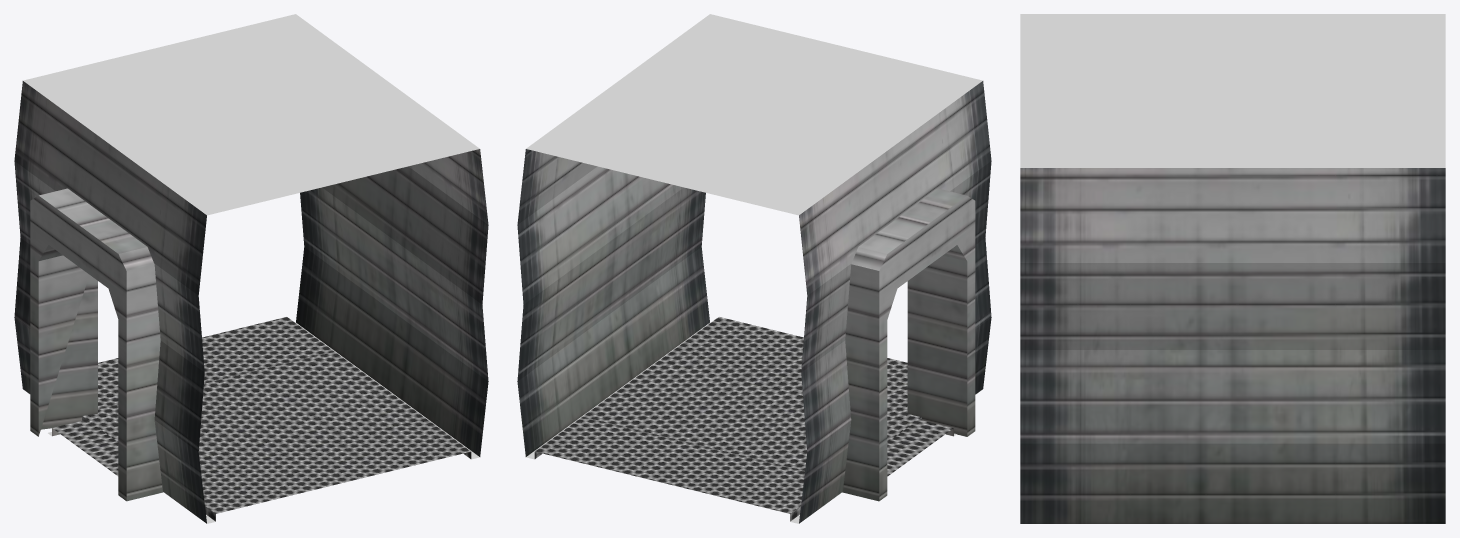
Rendered from 3_Way_Hallway.fbx.
The picture shows the model from 3 angles, left to right: view 1: azimuth 30°, elevation 25°; view 2: azimuth 150°, elevation 25°; view 3: azimuth 270°, elevation 25°; orthographic projection. The views are drawn at different scales.
Visible parts, largest first — view 1: 3-way Large Hallway; view 2: 3-way Large Hallway; view 3: 3-way Large Hallway.
Part boxes in pixels (x1=…): 3-way Large Hallway: x1=14, y1=14, x2=488, y2=523; 3-way Large Hallway: x1=517, y1=14, x2=991, y2=523; 3-way Large Hallway: x1=1020, y1=14, x2=1445, y2=523.
Size of the model in its own units: 498 by 463 by 500.
